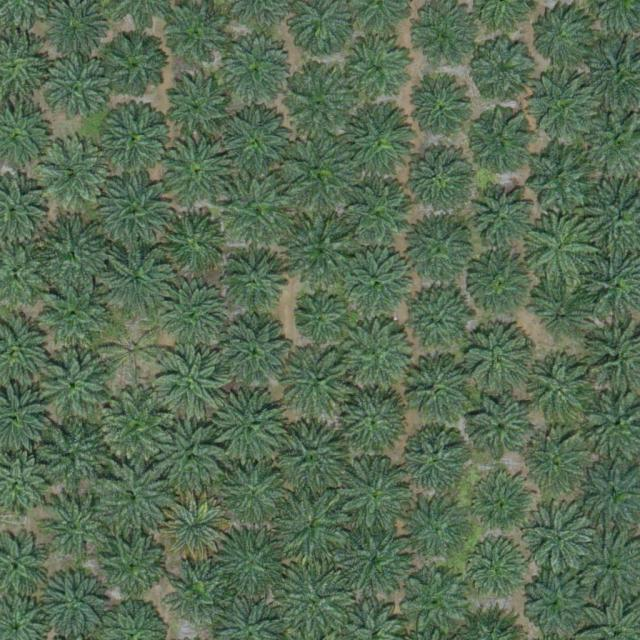Healthy: (337, 179, 415, 258), (283, 214, 361, 293), (273, 490, 351, 569), (345, 35, 416, 106), (341, 106, 412, 177), (526, 359, 597, 430), (465, 252, 536, 323), (404, 146, 475, 217), (342, 388, 413, 459), (337, 460, 408, 531), (36, 420, 107, 491), (101, 391, 172, 462), (161, 136, 232, 207), (220, 318, 291, 389), (96, 530, 167, 601), (284, 70, 354, 141), (224, 105, 294, 176), (100, 102, 170, 173), (528, 146, 598, 217), (462, 329, 533, 399), (404, 290, 474, 361), (342, 250, 412, 321), (284, 347, 354, 418), (284, 139, 354, 210), (398, 565, 468, 636), (342, 526, 412, 597), (213, 390, 283, 461), (221, 459, 291, 530), (214, 527, 284, 598), (41, 353, 112, 423), (39, 137, 109, 208), (101, 175, 171, 246), (102, 244, 172, 315), (156, 345, 226, 416), (161, 285, 231, 356), (222, 174, 293, 244), (530, 72, 600, 142), (406, 2, 476, 72), (161, 4, 231, 74), (221, 42, 291, 112), (167, 74, 237, 144), (44, 58, 114, 128), (405, 217, 475, 287), (402, 358, 472, 428), (341, 320, 411, 390), (523, 504, 593, 574), (275, 425, 345, 495), (39, 280, 109, 350), (35, 219, 105, 289), (156, 422, 226, 492), (99, 465, 169, 535), (41, 493, 111, 563), (474, 37, 537, 100), (467, 113, 530, 176), (474, 186, 537, 249), (162, 212, 225, 275), (44, 571, 107, 634), (533, 6, 595, 69), (105, 35, 167, 98), (530, 219, 592, 282), (534, 278, 596, 341), (526, 433, 588, 496), (469, 395, 531, 458), (466, 540, 528, 603), (224, 249, 287, 311), (413, 81, 475, 143), (403, 429, 465, 491), (528, 571, 590, 633), (469, 474, 531, 536), (407, 498, 469, 560), (171, 566, 225, 622), (296, 296, 343, 344)
Yellow: (160, 494, 230, 565), (103, 321, 165, 384)
